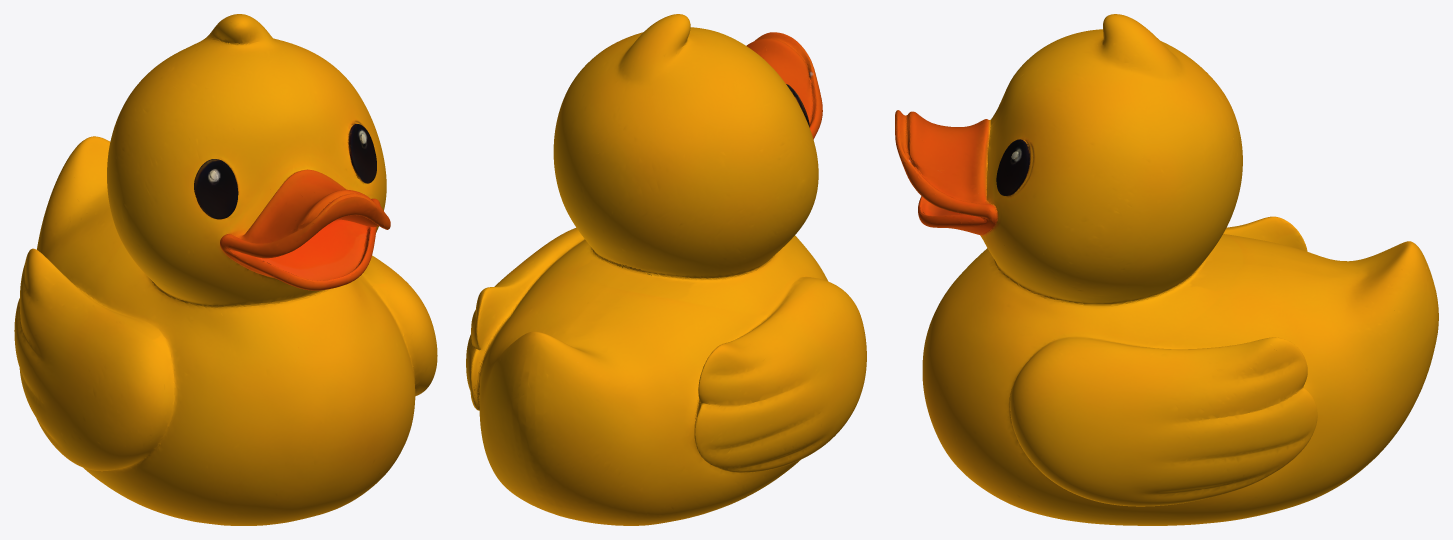
The model's file is base_basic_pbr.glb.
3 renders of one model, left to right at view 1: azimuth 30°, elevation 25°; view 2: azimuth 150°, elevation 25°; view 3: azimuth 270°, elevation 25°, orthographic. The views are drawn at different scales.
Visible parts, largest first — view 1: model; view 2: model; view 3: model.
Part boxes in pixels (x1,y1,x2,y2): model: (14, 14, 437, 525); model: (466, 14, 866, 525); model: (895, 14, 1438, 525).
Size of the model in its own units: 1.42 by 1.85 by 1.91.
Materials: 1 (1 with a texture image).
